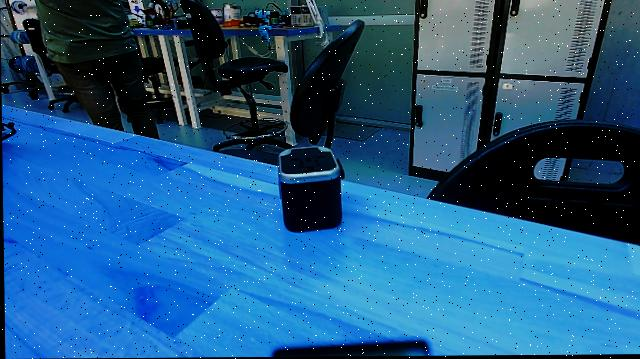adapter: (267, 141, 349, 235)
